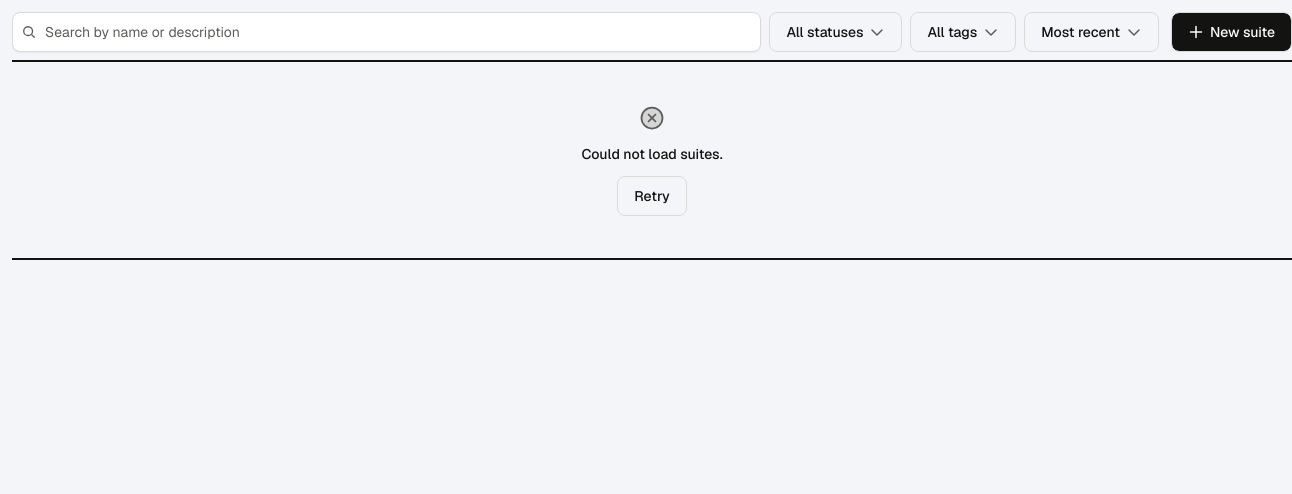
SuiteList › when the first load fails › puts the focus on the error, beside the filter bar, and brings the suites back on retry
The image size is (1292, 494).
Expected: the message shows "Could not load suites.", [581,145,723,163]
Expected: the search field with test id "suite-search" is shown, [12,12,761,52]
Click the button "Retry" at (652, 196), box [617,176,687,216]
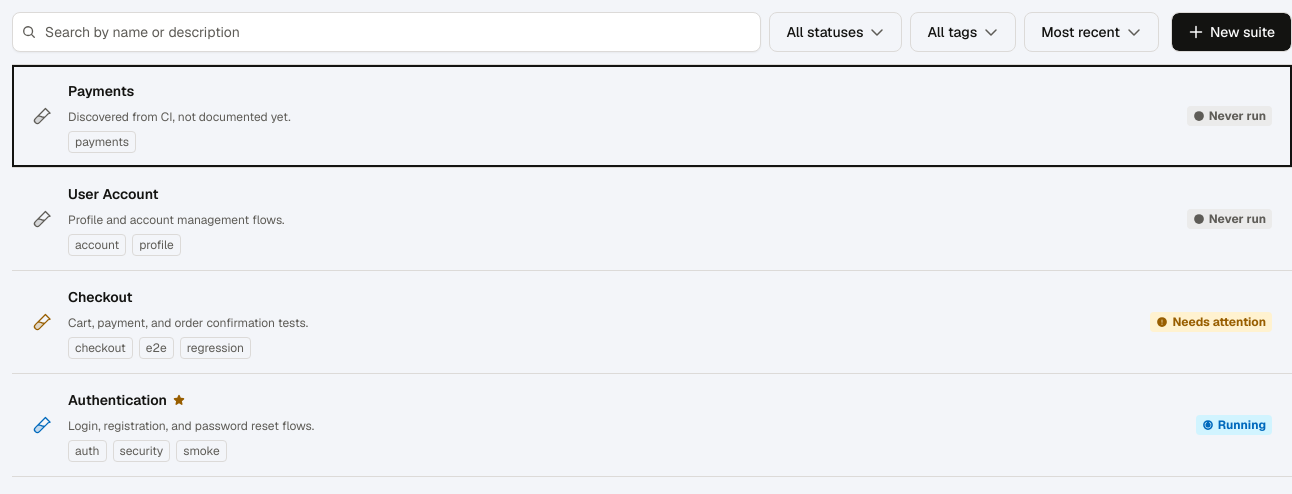
Expected: the element with test id "suite-row-suite-4" is shown, [12,65,1291,167]
